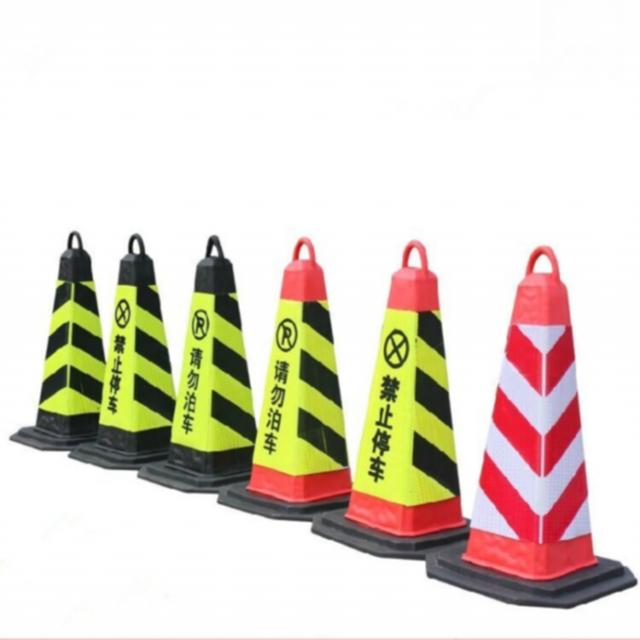reflective_cone: (421, 243, 639, 608), (310, 236, 470, 561), (212, 235, 354, 522), (133, 234, 258, 493), (66, 230, 175, 471), (7, 228, 106, 451)
